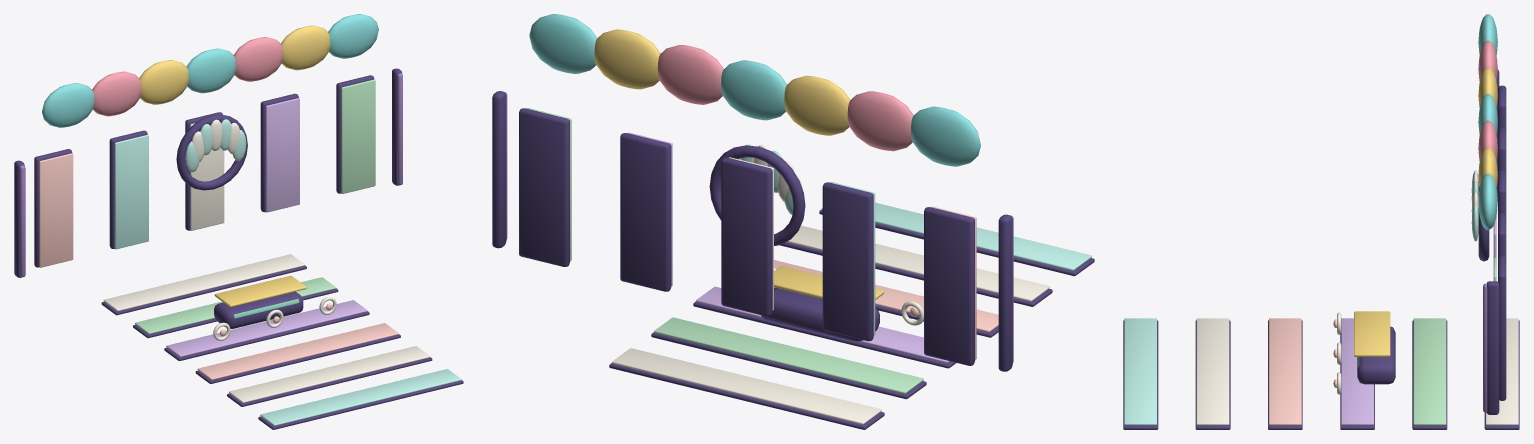
Rendered from shop_interior.glb.
The picture shows the model from 3 angles, left to right: view 1: azimuth 30°, elevation 25°; view 2: azimuth 150°, elevation 25°; view 3: azimuth 270°, elevation 25°; orthographic projection. The views are drawn at different scales.
Visible parts, largest first — view 1: WallPanel_0, WallPanel_1, WallPanel_3, WallPanel_4, FloorPanel_0, FloorPanel_1, FloorPanel_2, FloorPanel_5, FloorPanel_3, WallPanel_2, CanopyScallop_0, CanopyScallop_6 (+24 smaller); view 2: WallInk_1, WallInk_2, WallInk_3, WallInk_4, WallInk_0, FloorPanel_5, FloorPanel_4, CanopyScallop_0, CanopyScallop_6, CanopyScallop_1, CanopyScallop_5, CanopyScallop_2 (+16 smaller); view 3: FloorPanel_1, FloorPanel_4, FloorPanel_0, FloorPanel_2, FloorPanel_3, FloorPanel_5, SidePostInk_1.0, CounterTop, CounterInk, WallInk_4, CanopyScallop_6, SidePost_1.0 (+16 smaller).
Boxes of the visible parts, bbox=[...] form: WallPanel_0: bbox=[39, 153, 73, 267]; WallPanel_1: bbox=[114, 134, 148, 249]; WallPanel_3: bbox=[265, 98, 299, 212]; WallPanel_4: bbox=[341, 79, 375, 193]; FloorPanel_0: bbox=[260, 369, 461, 425]; FloorPanel_1: bbox=[229, 346, 430, 402]; FloorPanel_2: bbox=[197, 323, 398, 379]; FloorPanel_5: bbox=[103, 254, 304, 311]; FloorPanel_3: bbox=[166, 300, 367, 357]; WallPanel_2: bbox=[190, 123, 224, 230]; CanopyScallop_0: bbox=[42, 83, 94, 127]; CanopyScallop_6: bbox=[328, 14, 378, 58]; WallInk_1: bbox=[822, 182, 873, 341]; WallInk_2: bbox=[721, 157, 772, 316]; WallInk_3: bbox=[620, 133, 671, 291]; WallInk_4: bbox=[519, 108, 569, 266]; WallInk_0: bbox=[924, 207, 974, 365]; FloorPanel_5: bbox=[612, 348, 881, 424]; FloorPanel_4: bbox=[654, 317, 923, 393]; CanopyScallop_0: bbox=[911, 106, 980, 166]; CanopyScallop_6: bbox=[529, 14, 597, 73]; CanopyScallop_1: bbox=[847, 91, 913, 151]; CanopyScallop_5: bbox=[594, 29, 660, 89]; CanopyScallop_2: bbox=[784, 75, 850, 135]; FloorPanel_1: bbox=[1196, 318, 1229, 425]; FloorPanel_4: bbox=[1413, 318, 1446, 425]; FloorPanel_0: bbox=[1124, 318, 1156, 425]; FloorPanel_2: bbox=[1269, 318, 1301, 425]; FloorPanel_3: bbox=[1341, 318, 1373, 425]; FloorPanel_5: bbox=[1486, 318, 1518, 425]; SidePostInk_1.0: bbox=[1487, 281, 1499, 414]; CounterTop: bbox=[1354, 311, 1390, 356]; CounterInk: bbox=[1357, 326, 1395, 384]; WallInk_4: bbox=[1498, 255, 1506, 400]; CanopyScallop_6: bbox=[1478, 173, 1497, 230]; SidePost_1.0: bbox=[1483, 283, 1487, 412].
Size of the model in its own units: 32.62 by 19.59 by 25.22.
